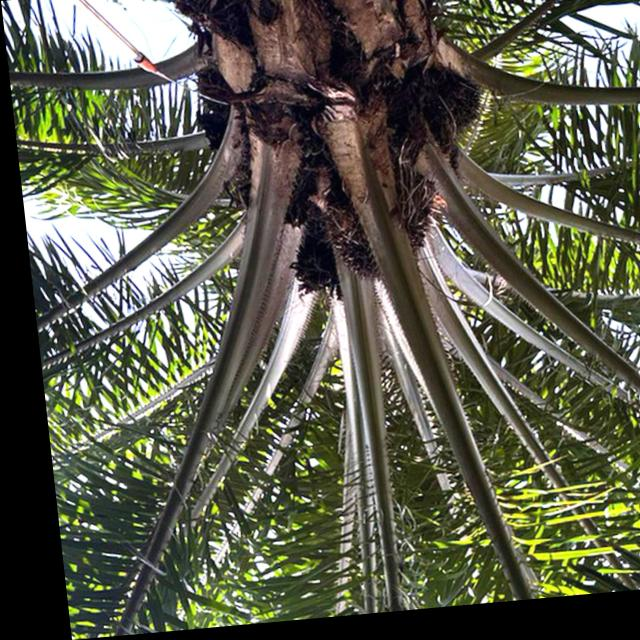ripe: (307, 171, 448, 300)
